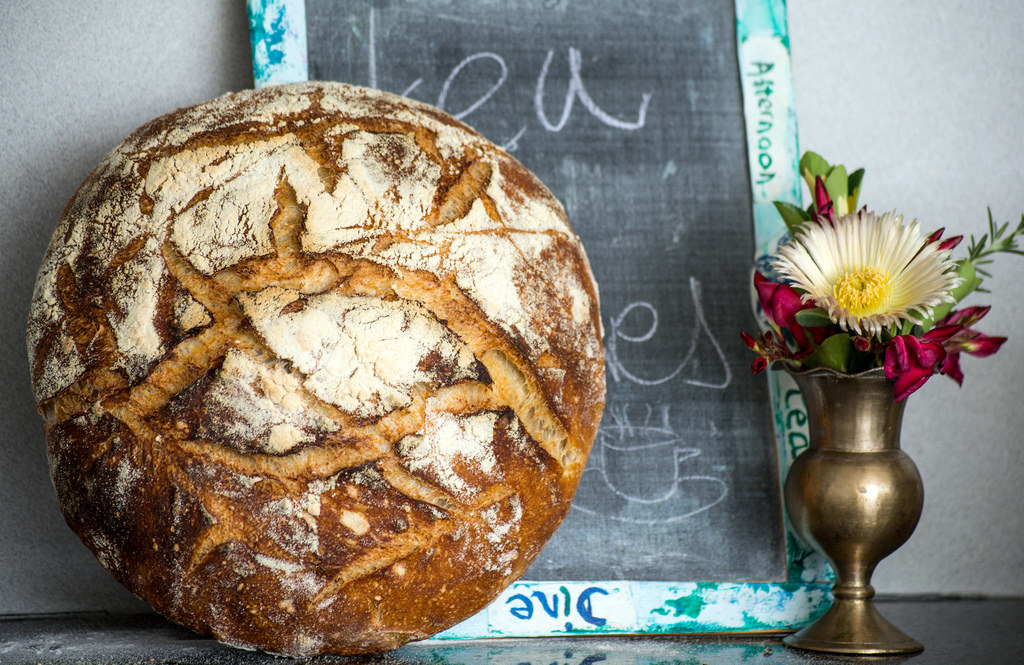slice of bread: (52, 98, 601, 650)
